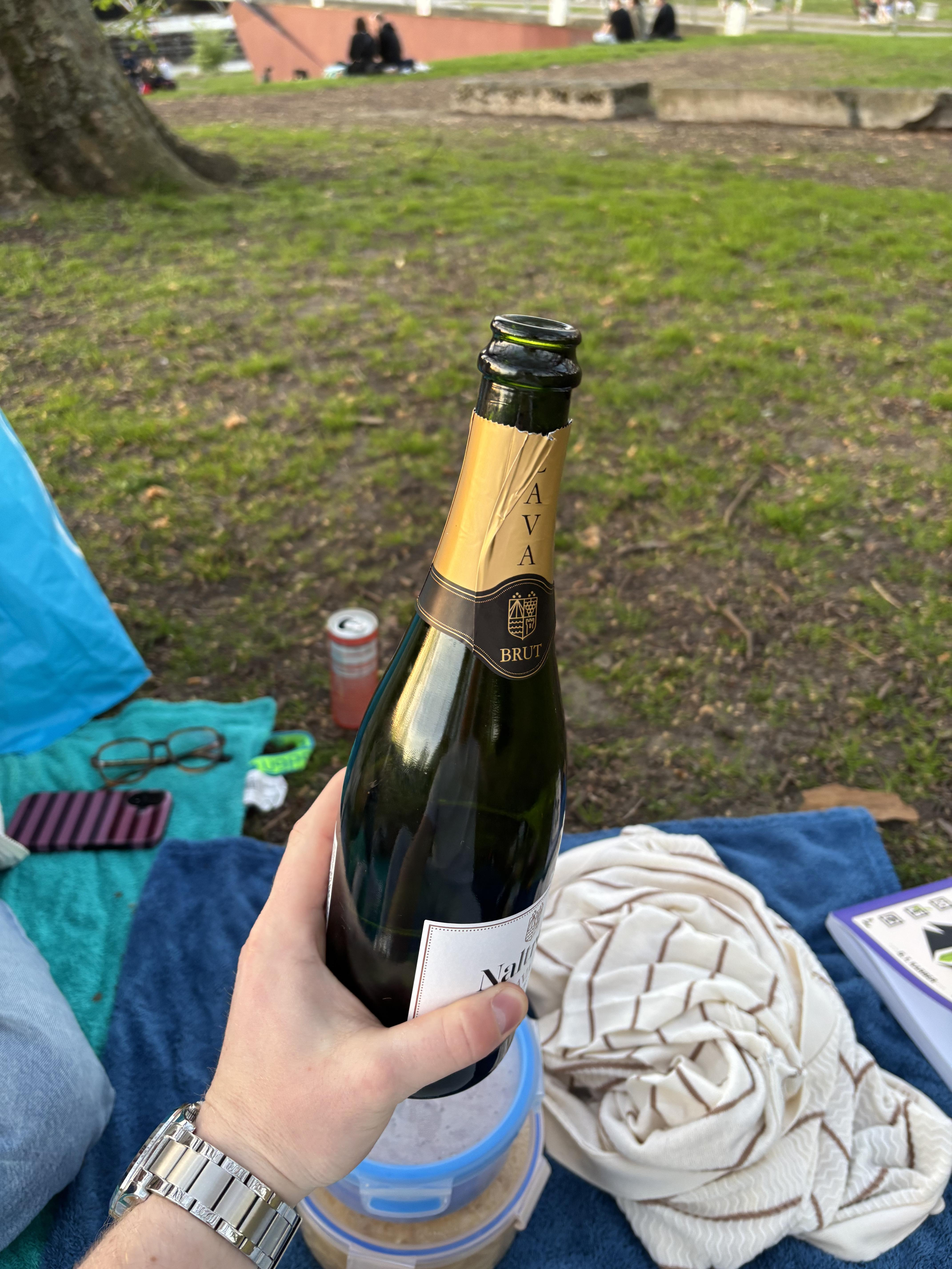Cardboard: (831, 866, 952, 1093)
Glass: (324, 300, 587, 1098)
Metal: (324, 598, 382, 733)
Plastic: (298, 1036, 562, 1259)
